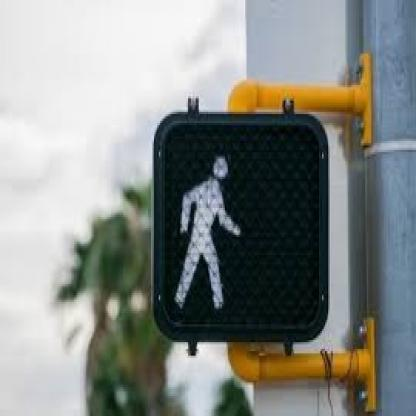Walk: (153, 114, 331, 343)
